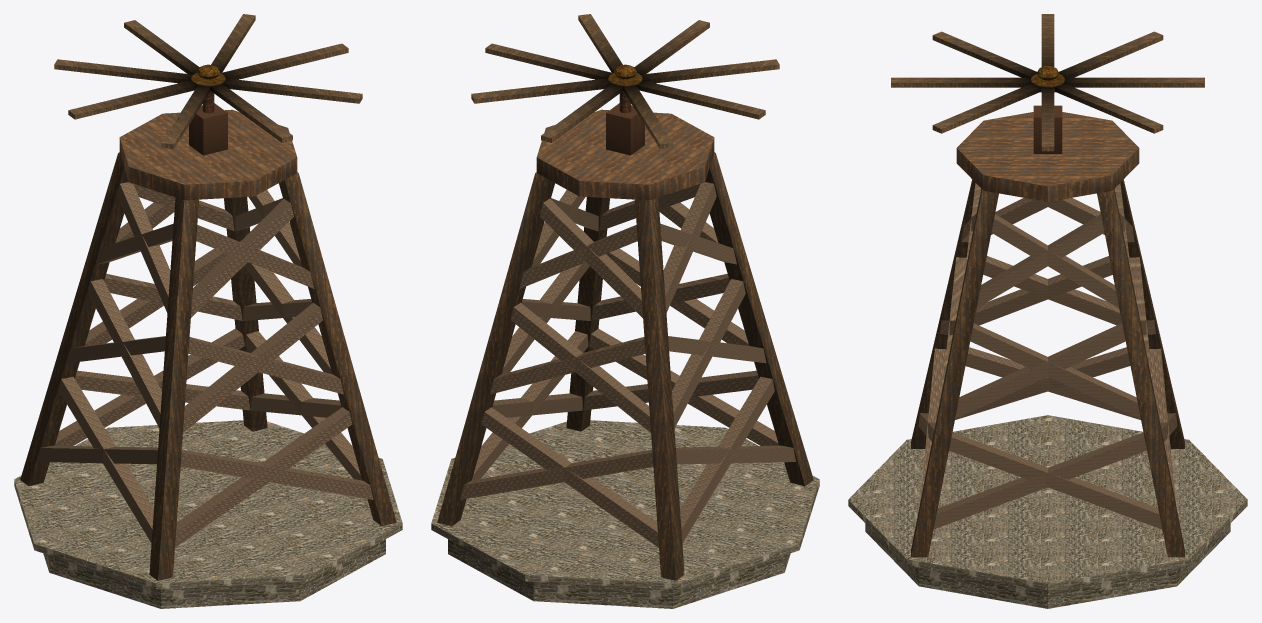
Rendered from harvester.glb.
3 views of the same model, side by side, from view 1: azimuth 30°, elevation 25°; view 2: azimuth 150°, elevation 25°; view 3: azimuth 270°, elevation 25° (orthographic).
Visible parts, largest first — view 1: HV_Braces, HV_FoundationRim, HV_Posts, HV_Rotor, HV_TopPlatform, HV_FoundationPad, HV_AxleSupport; view 2: HV_Braces, HV_FoundationRim, HV_Posts, HV_Rotor, HV_TopPlatform, HV_FoundationPad, HV_AxleSupport; view 3: HV_FoundationRim, HV_Braces, HV_Posts, HV_TopPlatform, HV_Rotor, HV_FoundationPad, HV_AxleSupport.
Part boxes in pixels (x1=…): HV_Braces: x1=38, y1=182, x2=373, y2=547; HV_FoundationRim: x1=14, y1=420, x2=402, y2=589; HV_Posts: x1=20, y1=152, x2=396, y2=580; HV_Rotor: x1=54, y1=14, x2=362, y2=148; HV_TopPlatform: x1=119, y1=109, x2=297, y2=200; HV_FoundationPad: x1=43, y1=539, x2=385, y2=608; HV_AxleSupport: x1=189, y1=103, x2=227, y2=155; HV_Braces: x1=460, y1=182, x2=795, y2=547; HV_FoundationRim: x1=431, y1=420, x2=819, y2=589; HV_Posts: x1=437, y1=152, x2=813, y2=580; HV_Rotor: x1=471, y1=14, x2=779, y2=148; HV_TopPlatform: x1=536, y1=109, x2=714, y2=200; HV_FoundationPad: x1=448, y1=539, x2=790, y2=608; HV_AxleSupport: x1=606, y1=103, x2=644, y2=155; HV_FoundationRim: x1=848, y1=415, x2=1247, y2=590; HV_Braces: x1=918, y1=183, x2=1177, y2=529; HV_Posts: x1=911, y1=179, x2=1184, y2=557; HV_TopPlatform: x1=956, y1=112, x2=1139, y2=201; HV_Rotor: x1=891, y1=14, x2=1204, y2=151; HV_FoundationPad: x1=865, y1=524, x2=1230, y2=608; HV_AxleSupport: x1=1033, y1=105, x2=1062, y2=153.
Bounding box in the file's own units: 1.4 × 1.8 × 1.4.
7 materials, 7 textured.
